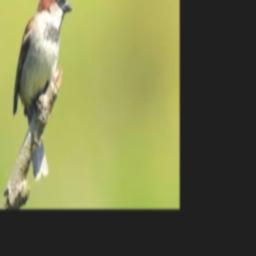Sparrow: (12, 0, 72, 180)
